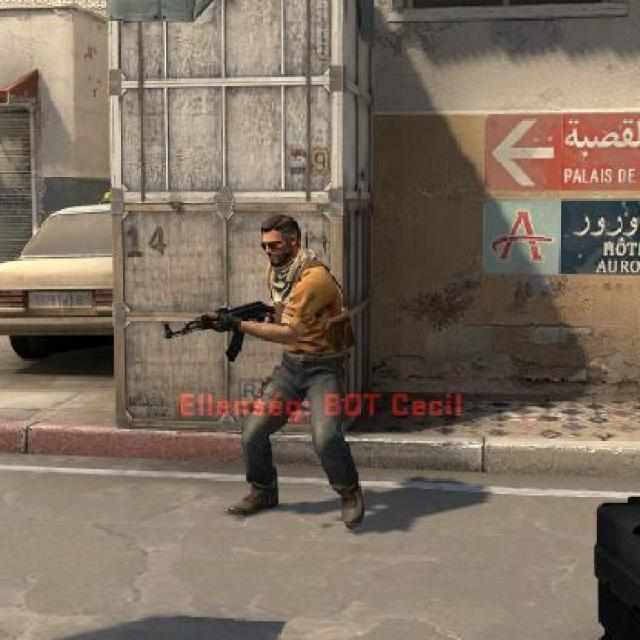T: (223, 211, 371, 536)
T_HEAD: (256, 212, 304, 270)
